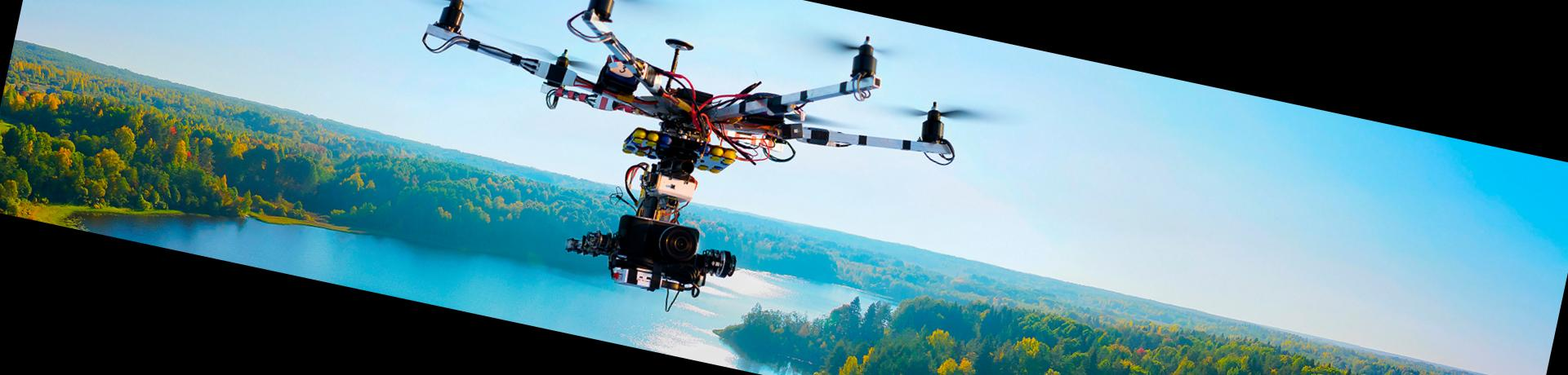drone: (392, 0, 1040, 261)
